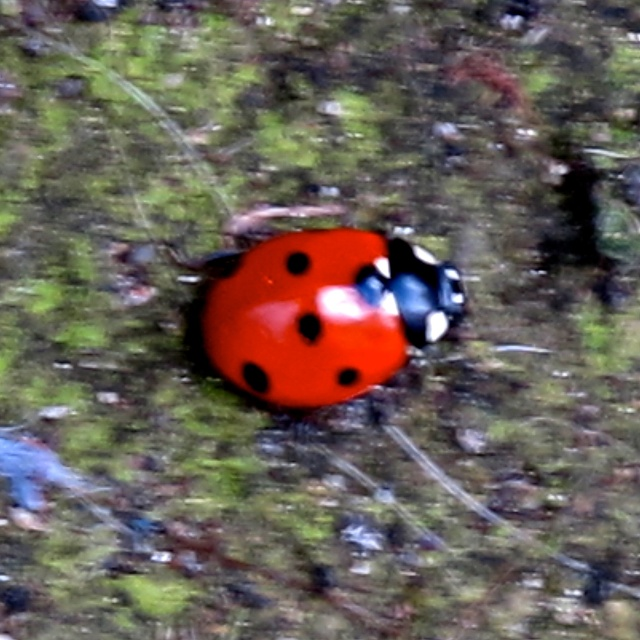Ladybug: (192, 202, 468, 434)
